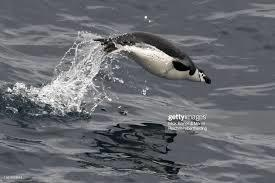chinstrap: (94, 18, 226, 108)
